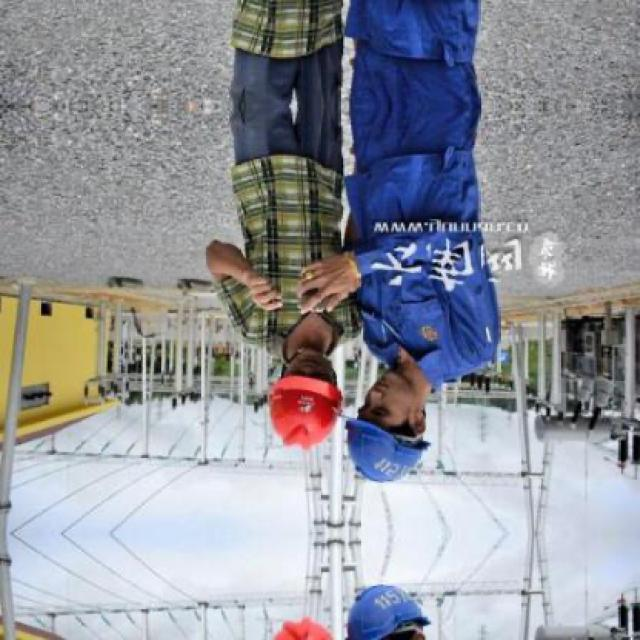con casco: (335, 363, 472, 487), (253, 342, 340, 448)
